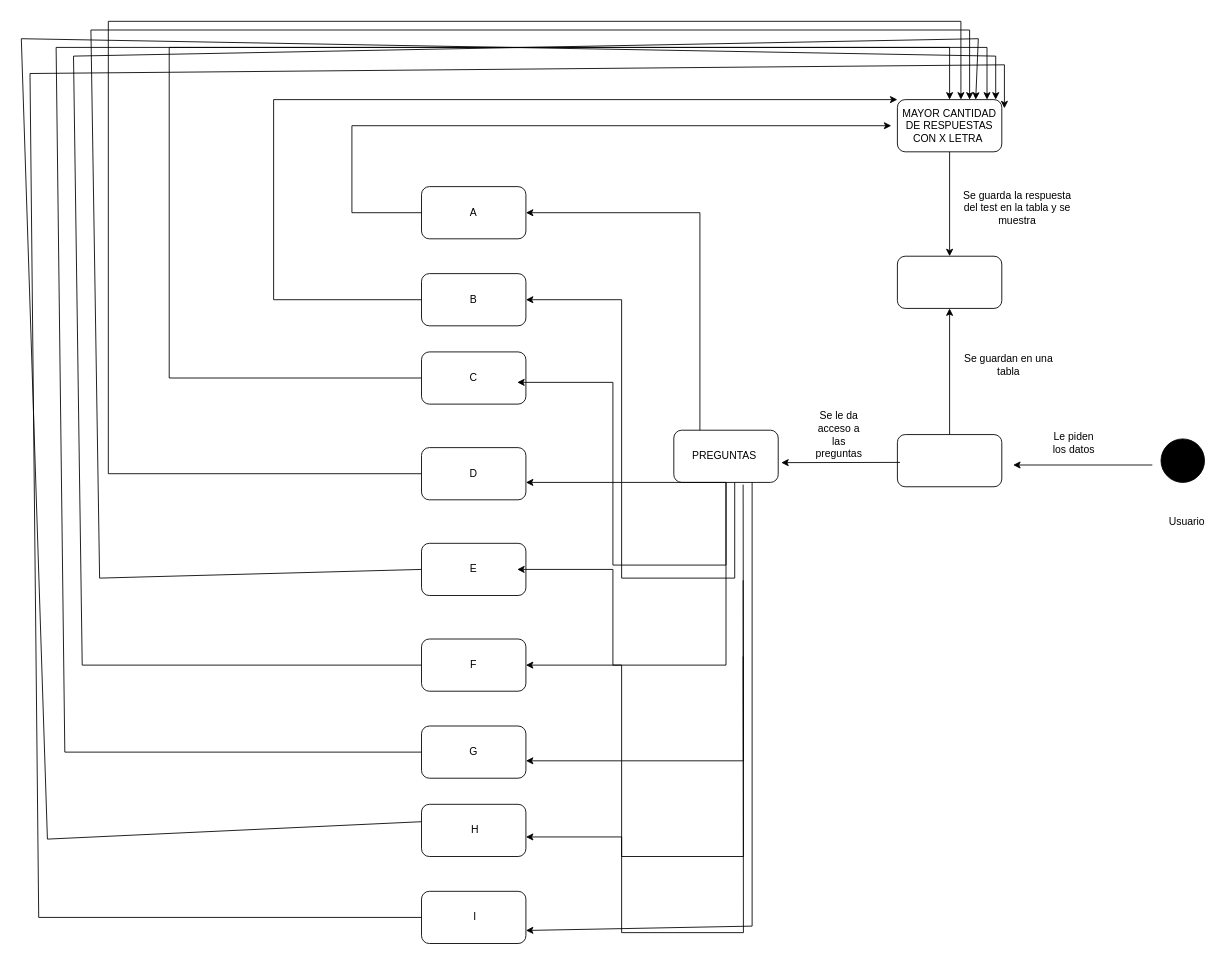
This 1228x959 diagram has some shape labels left out. Each missing label, with the centre of its shape:
"DATOS" belongs at [949,460].
"TABLA" belongs at [949,281].
